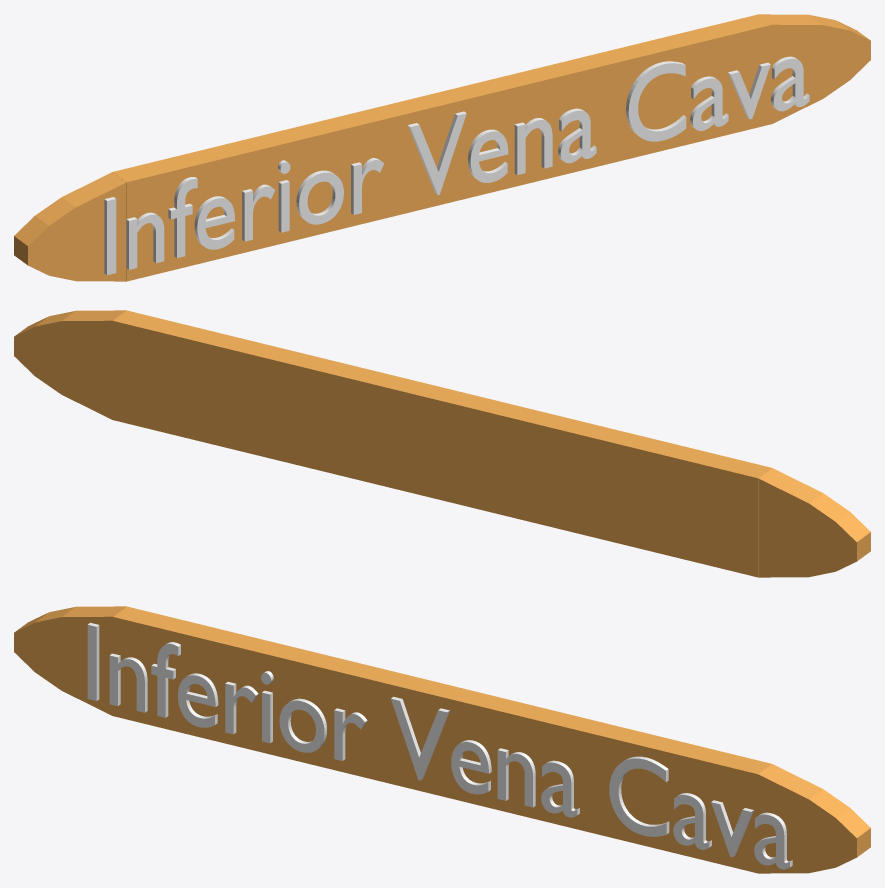
The model's file is txtInferiorVenaCava.fbx.
3 renders of one model, top to bottom at view 1: azimuth 30°, elevation 25°; view 2: azimuth 150°, elevation 25°; view 3: azimuth 330°, elevation 25°, orthographic.
Parts seen in each view (by area): view 1: TagContainer.039, Text.040; view 2: TagContainer.039; view 3: TagContainer.039, Text.040.
Part boxes in pixels (left/top/right/bottom): TagContainer.039: left=14, top=14, right=870, bottom=281; Text.040: left=104, top=56, right=809, bottom=275; TagContainer.039: left=14, top=310, right=870, bottom=577; TagContainer.039: left=14, top=606, right=870, bottom=873; Text.040: left=87, top=622, right=792, bottom=869.
Size of the model in its own units: 367 by 41.3 by 12.69.
